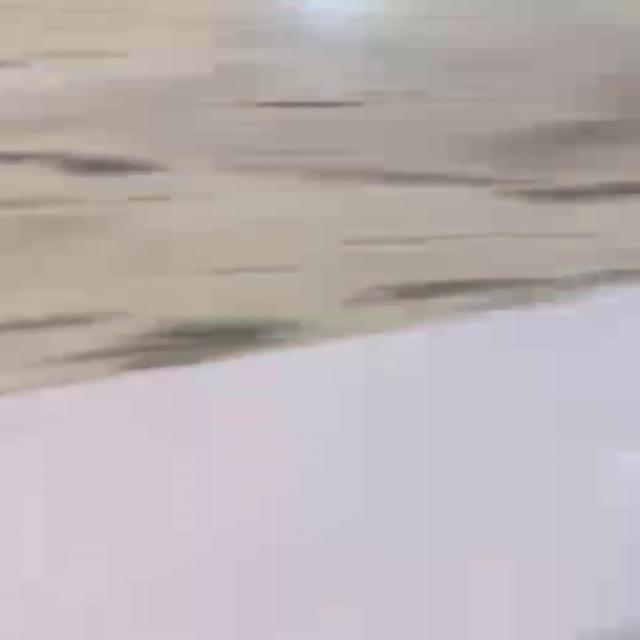road: (3, 288, 639, 640)
